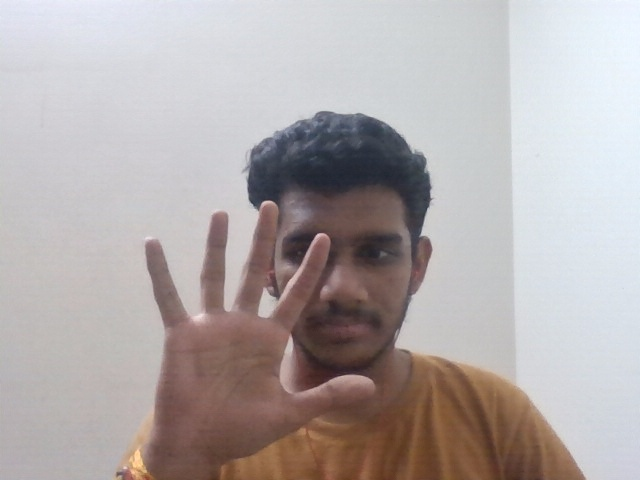hello: (143, 197, 377, 476)
